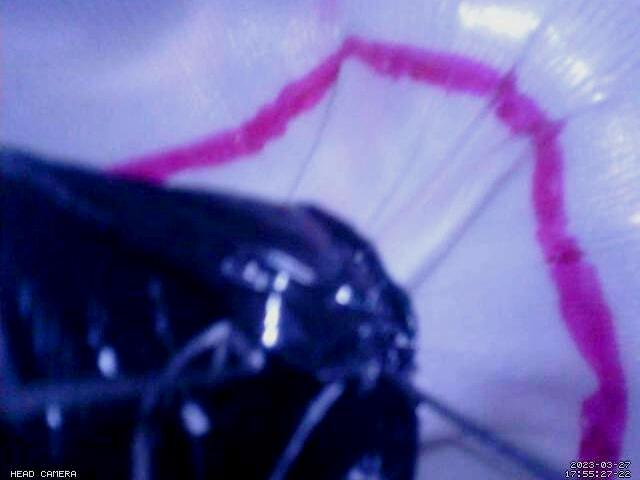red-circle: (108, 33, 630, 480)
